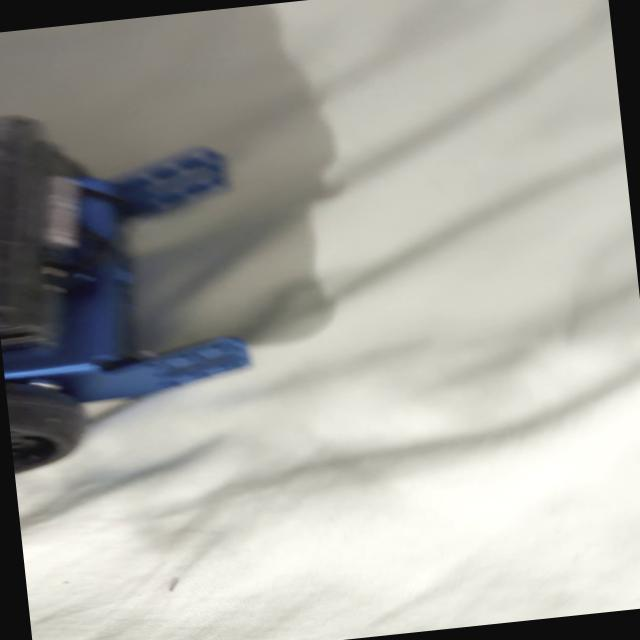mbot-detection: (0, 79, 281, 480)
